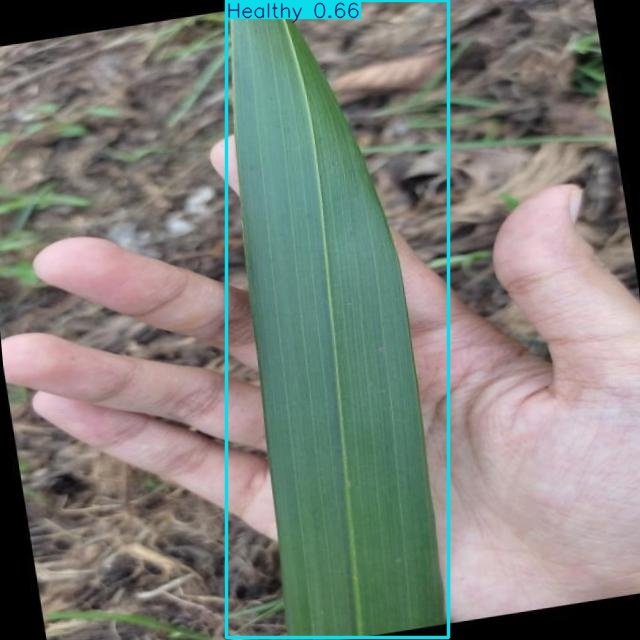Healthy: (226, 0, 449, 638)
